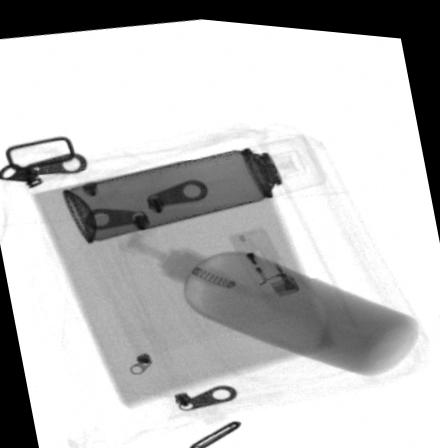Lighter: (228, 220, 300, 297)
Sprayer: (63, 128, 328, 242)
